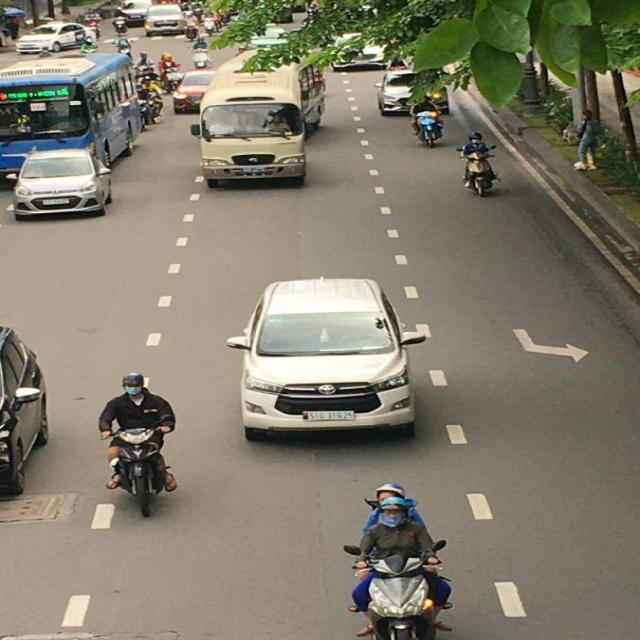bus: (0, 51, 143, 182), (188, 69, 319, 188), (198, 47, 329, 136)
car: (235, 278, 420, 443), (0, 306, 50, 502), (9, 144, 117, 220), (16, 22, 89, 54), (376, 64, 416, 114), (172, 70, 216, 114), (143, 4, 189, 41)
motorcycle: (350, 542, 451, 639), (106, 429, 178, 518), (462, 149, 501, 196), (412, 112, 443, 148)
